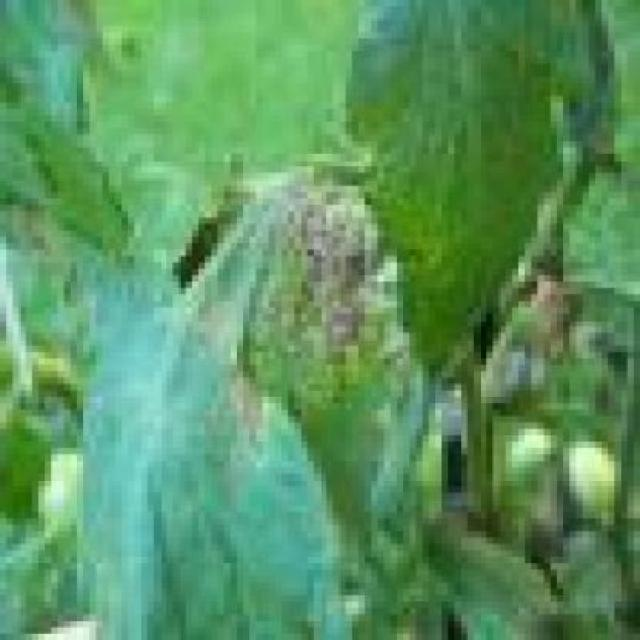Septoria leaf spot: (84, 155, 380, 635), (334, 2, 596, 385)
